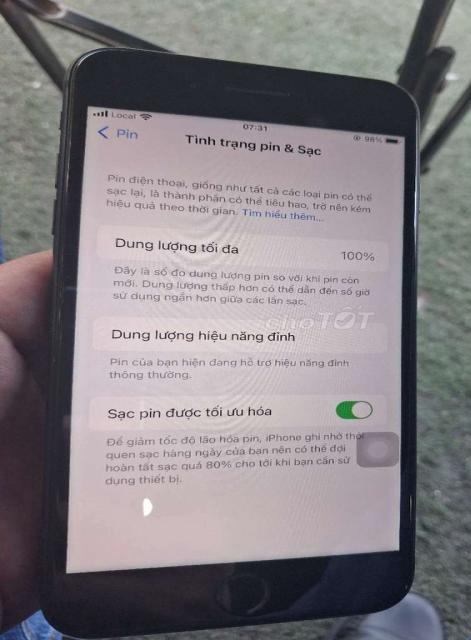scratch: (55, 124, 72, 368), (65, 41, 144, 58)
screen_defect: (136, 489, 154, 523)
